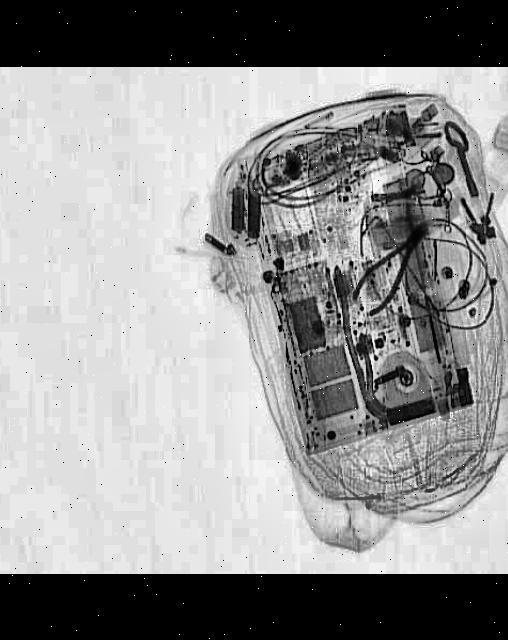Pliers: (344, 215, 444, 318)
